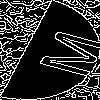M: (25, 25, 100, 80)
